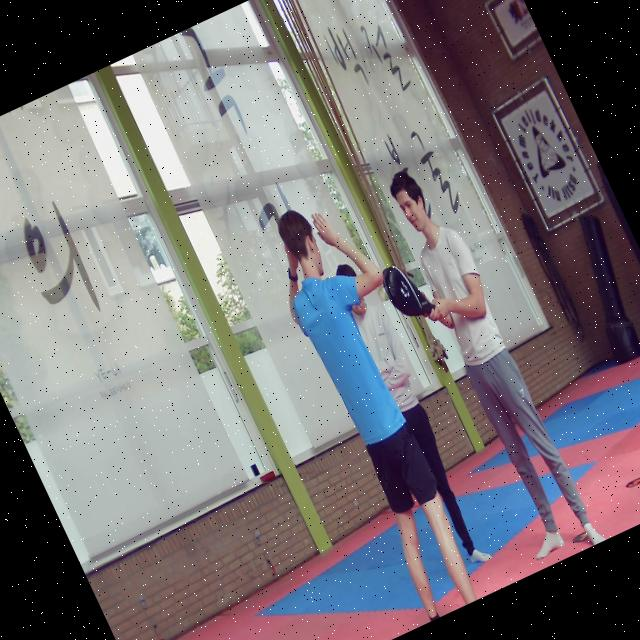paddle: (383, 267, 435, 316)
